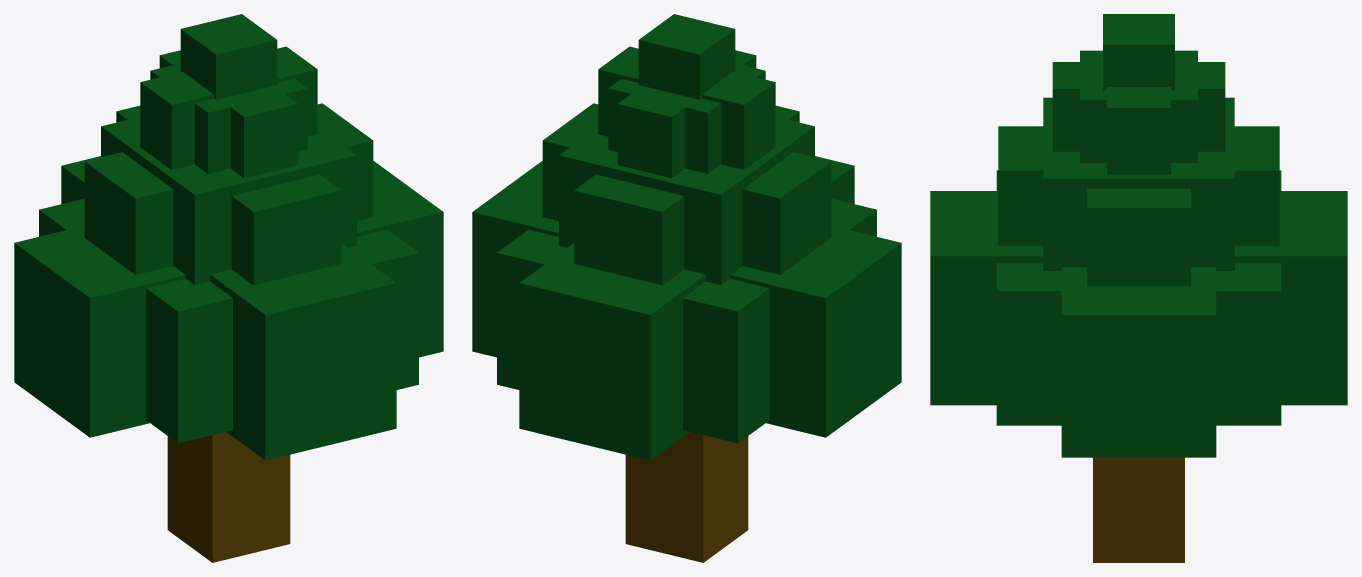
The model's file is Tree.fbx.
3 renders of one model, left to right at view 1: azimuth 30°, elevation 25°; view 2: azimuth 150°, elevation 25°; view 3: azimuth 270°, elevation 25°, orthographic. The views are drawn at different scales.
Parts seen in each view (by area): view 1: pasted__pasted__pCube2 (×3), pasted__pCube2 (×2), pasted__pasted__pasted__pCube2 (×3), pCube2, pCube1, pasted__pasted__pasted__pasted__pCube2; view 2: pasted__pasted__pCube2 (×3), pasted__pCube2 (×2), pasted__pasted__pasted__pCube2 (×3), pCube2, pCube1, pasted__pasted__pasted__pasted__pCube2; view 3: pasted__pasted__pCube2 (×3), pasted__pCube2 (×2), pasted__pasted__pasted__pCube2 (×3), pCube2, pCube1, pasted__pasted__pasted__pasted__pCube2.
Boxes of the visible parts, x1,y1,x2,y2 form: pasted__pasted__pCube2 (×3): (61,65,396,460); pasted__pCube2 (×2): (14,117,443,437); pasted__pasted__pasted__pCube2 (×3): (116,14,341,285); pCube2: (39,198,418,443); pCube1: (167,432,290,562); pasted__pasted__pasted__pasted__pCube2: (159,50,298,178); pasted__pasted__pCube2 (×3): (519,64,854,460); pasted__pCube2 (×2): (472,117,901,437); pasted__pasted__pasted__pCube2 (×3): (574,14,799,285); pCube2: (497,198,876,443); pCube1: (625,432,748,562); pasted__pasted__pasted__pasted__pCube2: (617,50,756,178); pasted__pasted__pCube2 (×3): (930,50,1347,405); pasted__pCube2 (×2): (1043,97,1234,457); pasted__pasted__pasted__pCube2 (×3): (998,14,1279,245); pCube2: (996,170,1281,425); pCube1: (1093,457,1184,562); pasted__pasted__pasted__pasted__pCube2: (1052,62,1225,151).
Bounding box in the file's own units: 2019 × 2743 × 2019.
